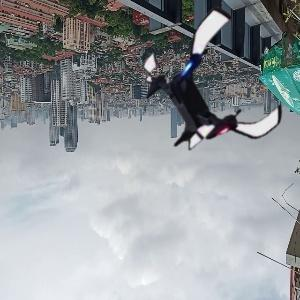drone: (140, 18, 289, 167)
